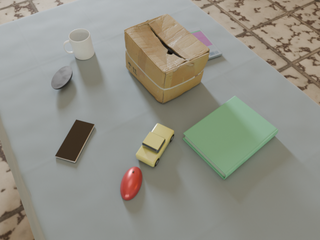book: (183, 96, 278, 179), (188, 27, 222, 60)
box: (124, 14, 210, 103)
cup: (64, 29, 94, 60)
mouse: (120, 167, 142, 200), (51, 66, 72, 89)
phone: (55, 120, 95, 163)
toy_car: (136, 123, 174, 167)
